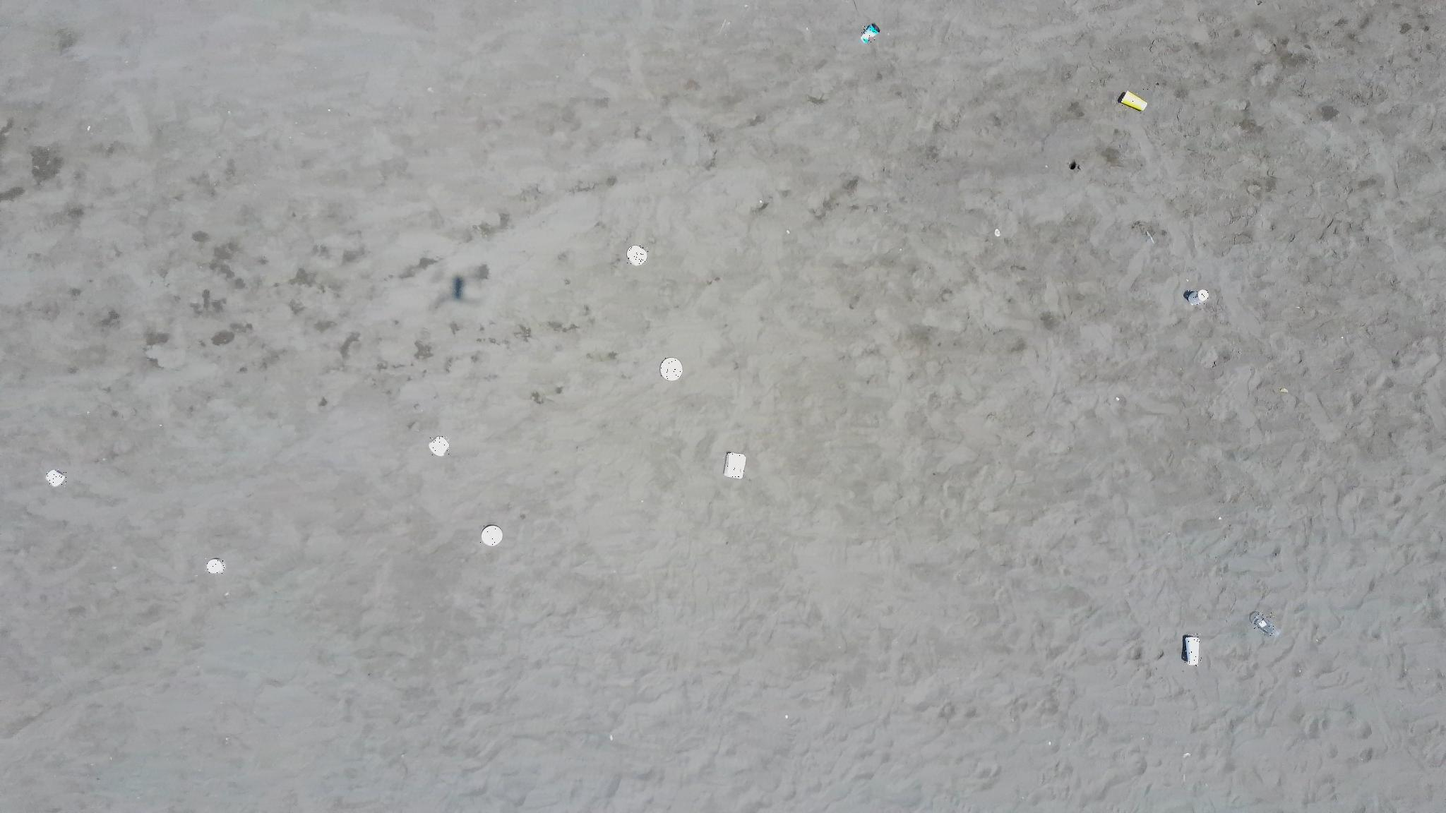Garbage: (1250, 611, 1279, 636), (659, 357, 682, 381), (724, 452, 745, 478), (1118, 92, 1147, 110), (1181, 635, 1198, 665), (479, 524, 502, 546), (626, 245, 647, 265), (860, 23, 880, 44), (1185, 288, 1209, 305), (428, 436, 449, 455), (46, 469, 64, 486), (205, 558, 224, 574), (453, 275, 463, 299), (1145, 230, 1154, 244), (993, 227, 1000, 236), (1279, 387, 1287, 393)
